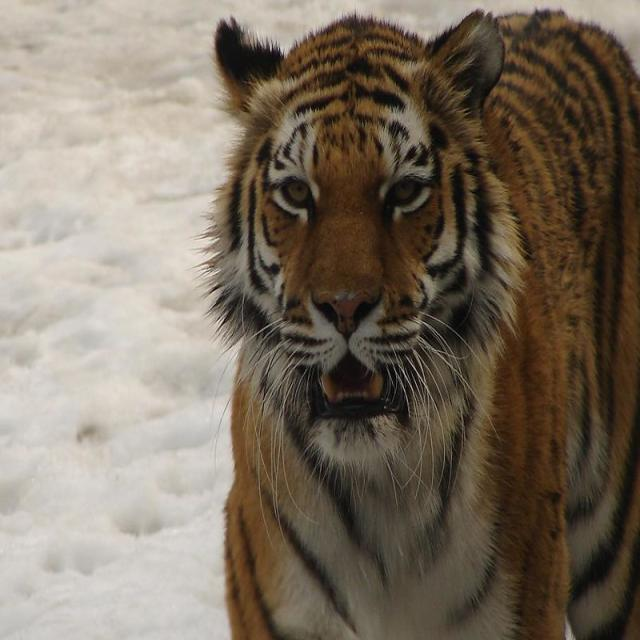Tiger: (194, 4, 637, 639)
